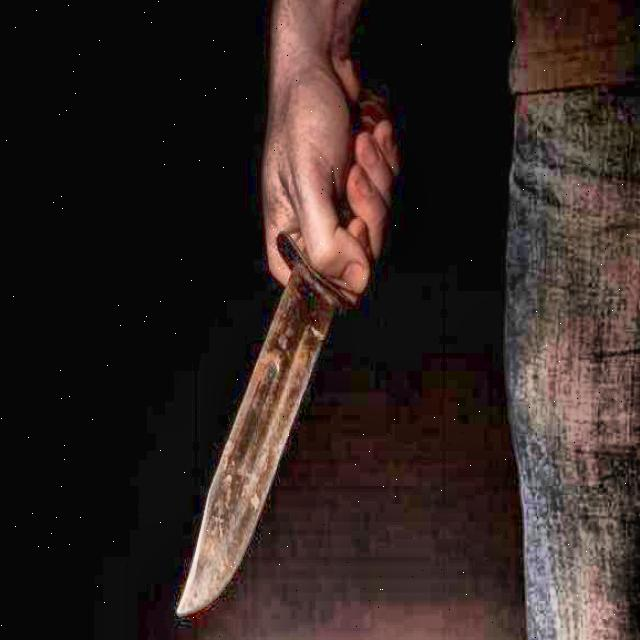knife: (176, 93, 392, 613)
